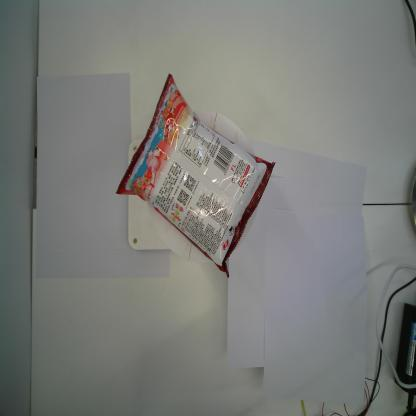Puffed Food: (114, 73, 276, 277)
